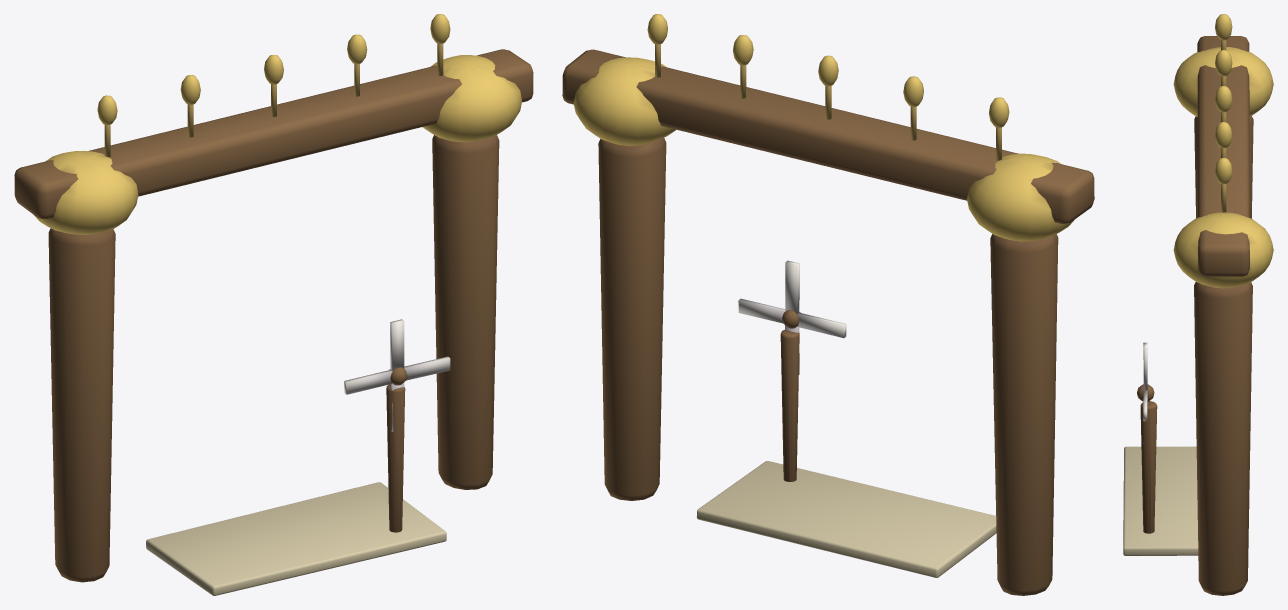
3 renders of one model, left to right at view 1: azimuth 30°, elevation 25°; view 2: azimuth 150°, elevation 25°; view 3: azimuth 270°, elevation 25°, orthographic. The views are drawn at different scales.
Visible parts, largest first — view 1: gate_07c30cbd; view 2: gate_07c30cbd; view 3: gate_07c30cbd.
Boxes of the visible parts, x1,y1,x2,y2 form: gate_07c30cbd: (14, 14, 533, 595); gate_07c30cbd: (562, 14, 1094, 595); gate_07c30cbd: (1123, 14, 1273, 595).
Size of the model in its own units: 5.08 by 4.64 by 1.5.
